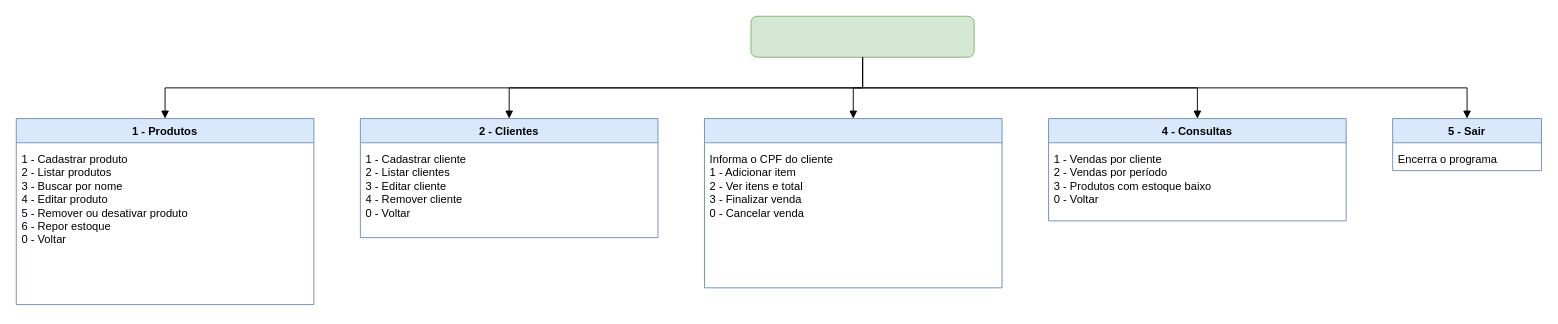
Some shapes in this 1558 by 324 pixel diagram are drawn without their labels. The box of each missing label's shape, as (x1, y1, x2, y2) in pixels:
3 - Nova venda: (704, 118, 1002, 288)
MENU PRINCIPAL: (750, 15, 974, 57)
